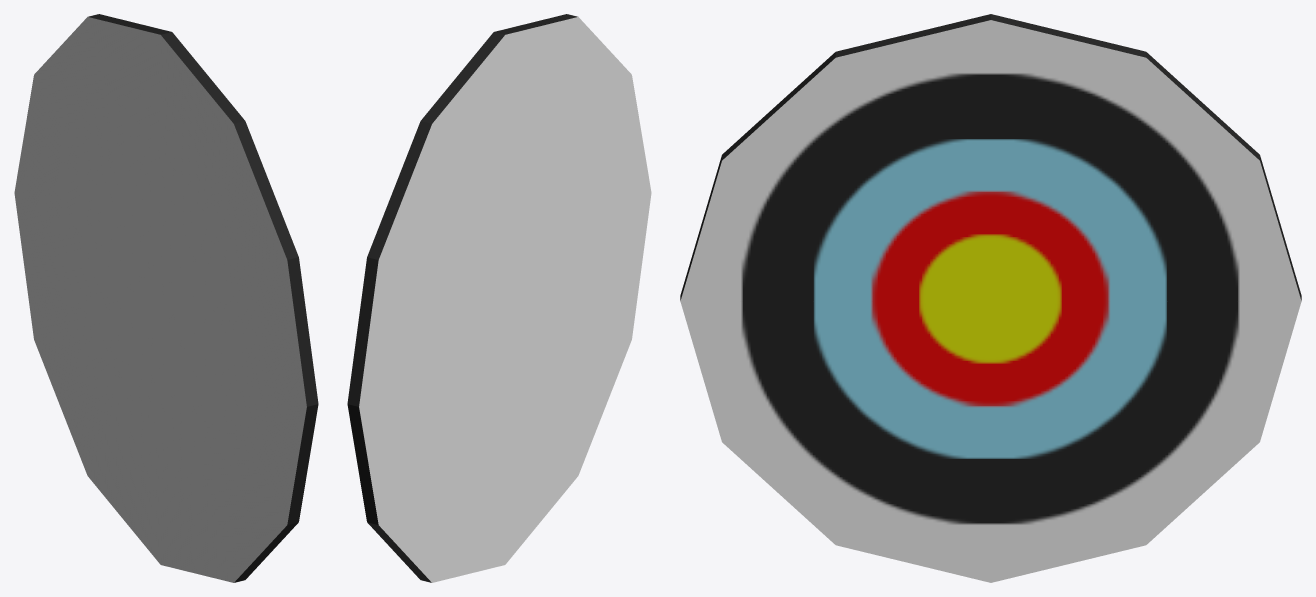
File: Target.fbx
The picture shows the model from 3 angles, left to right: view 1: azimuth 30°, elevation 25°; view 2: azimuth 150°, elevation 25°; view 3: azimuth 270°, elevation 25°; orthographic projection. The views are drawn at different scales.
Visible parts, largest first — view 1: Target; view 2: Target; view 3: Target.
Part boxes in pixels (left/top/right/bottom): Target: left=14, top=14, right=318, bottom=582; Target: left=347, top=14, right=651, bottom=582; Target: left=680, top=14, right=1301, bottom=582.
Bounding box in the file's own units: 1.97 × 86.06 × 86.06.
